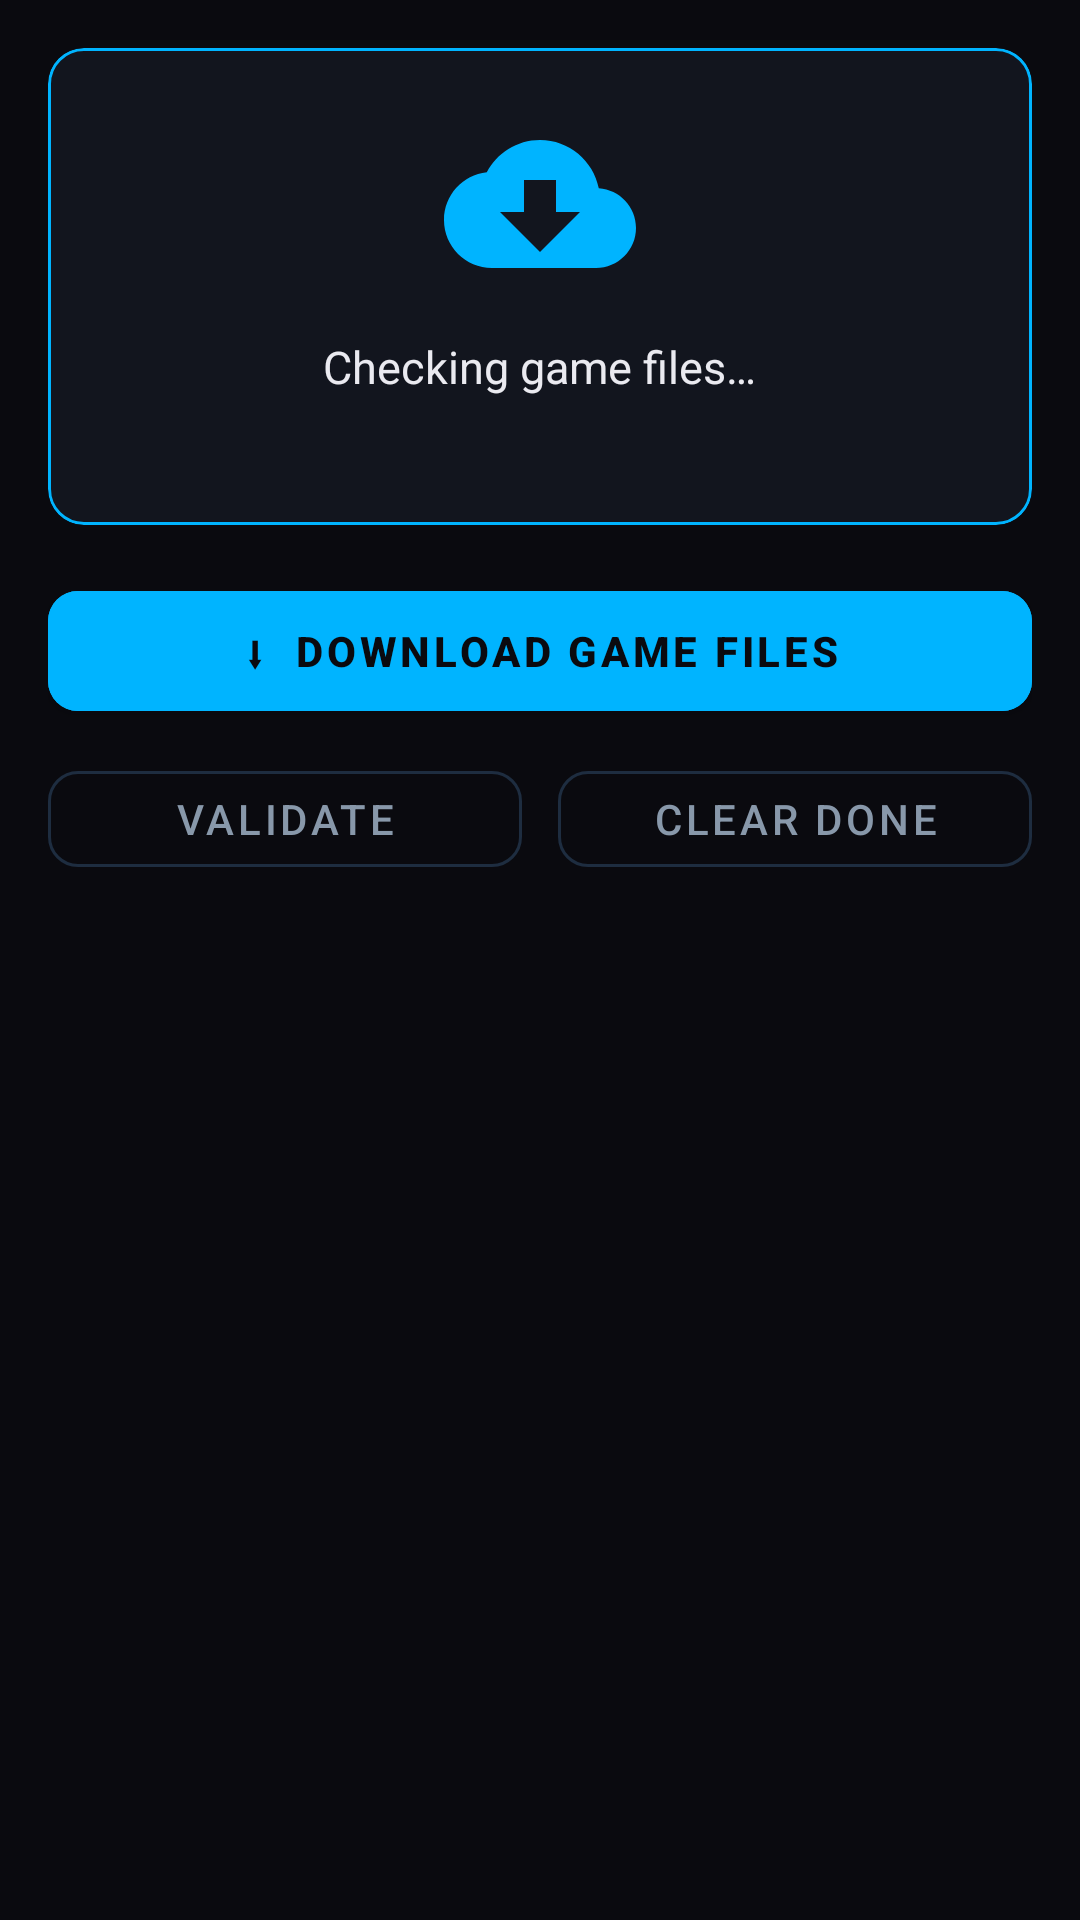

Icon bounding boxes for this 1080x1920 phone screenshot, format (x1, y1, x2, y2):
Status: (444, 140, 636, 268)
